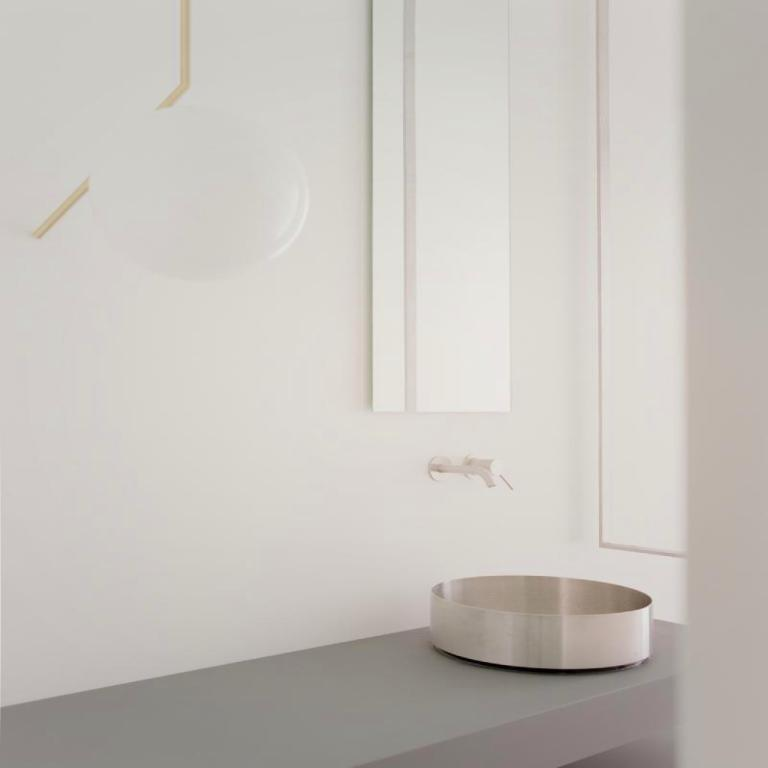white-walls: (40, 303, 408, 680)
